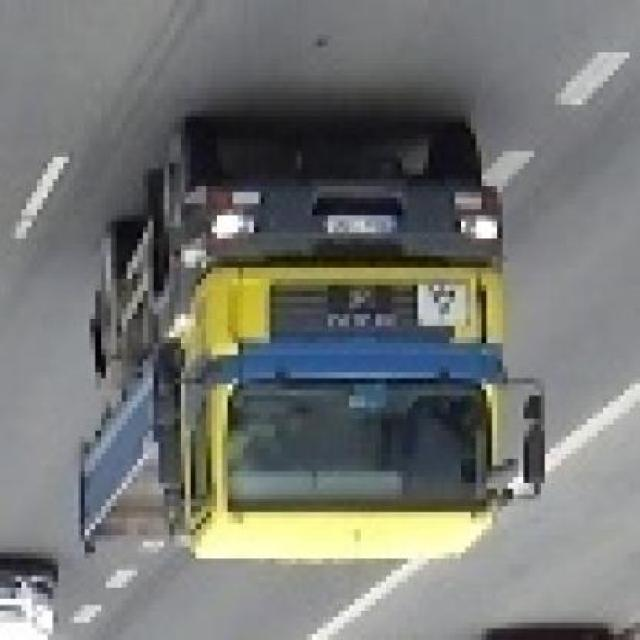truck: (70, 117, 541, 577)
